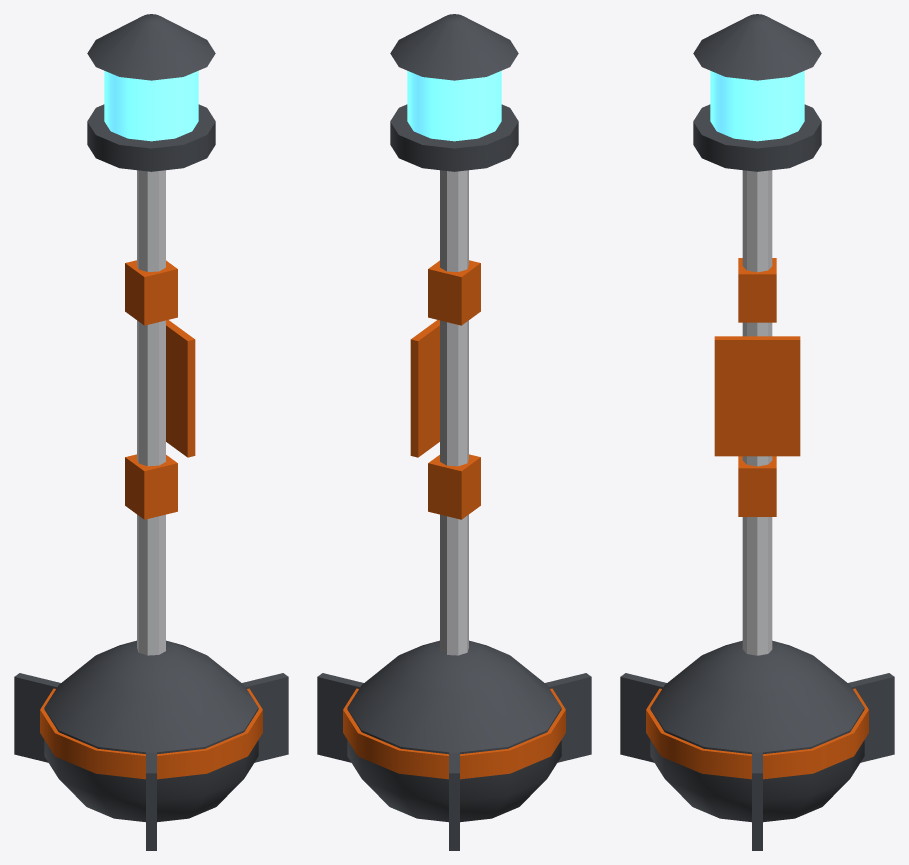
Rendered from buoy.glb.
3 renders of one model, left to right at view 1: azimuth 30°, elevation 25°; view 2: azimuth 150°, elevation 25°; view 3: azimuth 270°, elevation 25°, orthographic.
Visible parts, largest first — view 1: buoy_dark_steel, buoy_outposts_orange, buoy_hull_plate, buoy_blue_light; view 2: buoy_dark_steel, buoy_outposts_orange, buoy_hull_plate, buoy_blue_light; view 3: buoy_dark_steel, buoy_outposts_orange, buoy_hull_plate, buoy_blue_light.
Part boxes in pixels (<box>): buoy_dark_steel: <box>14,14,288,850</box>; buoy_outposts_orange: <box>40,260,262,779</box>; buoy_hull_plate: <box>137,170,165,655</box>; buoy_blue_light: <box>104,71,198,141</box>; buoy_dark_steel: <box>317,14,591,850</box>; buoy_outposts_orange: <box>343,260,565,779</box>; buoy_hull_plate: <box>440,170,468,655</box>; buoy_blue_light: <box>407,71,501,141</box>; buoy_dark_steel: <box>620,14,894,850</box>; buoy_outposts_orange: <box>646,258,868,779</box>; buoy_hull_plate: <box>742,170,772,655</box>; buoy_blue_light: <box>710,71,804,141</box>.
Size of the model in its own units: 1.25 by 4 by 1.28.
